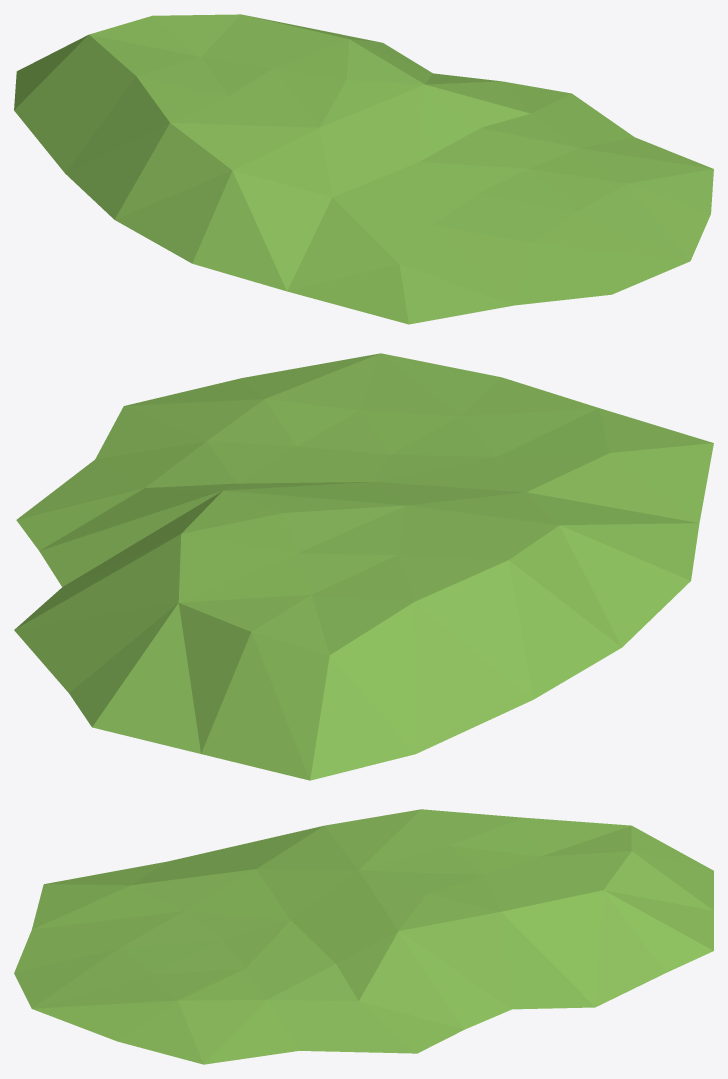
The model's file is MT_Mountain_S_c_02_LOD.fbx.
3 views of the same model, one above another, from view 1: azimuth 30°, elevation 25°; view 2: azimuth 150°, elevation 25°; view 3: azimuth 270°, elevation 25° (orthographic). The views are drawn at different scales.
Visible parts, largest first — view 1: MT_Mountain_S_c_02_LOD0; view 2: MT_Mountain_S_c_02_LOD0; view 3: MT_Mountain_S_c_02_LOD0.
Part boxes in pixels (x1,y1,x2,y2): MT_Mountain_S_c_02_LOD0: [14, 14, 713, 324]; MT_Mountain_S_c_02_LOD0: [14, 353, 713, 780]; MT_Mountain_S_c_02_LOD0: [14, 809, 713, 1064].
Size of what is drawn, in the model's own units: 1853 by 240 by 2403.
